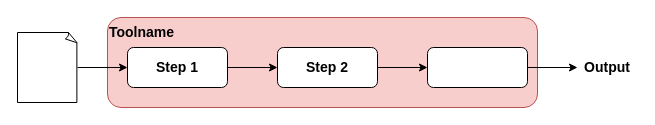
Image size: 655x125. Some labels were removed from this diagram. Here are the shapes that lost their labels. From the top down, the centre of each, then its label:
(47,67): Input
(477,67): Step 3
